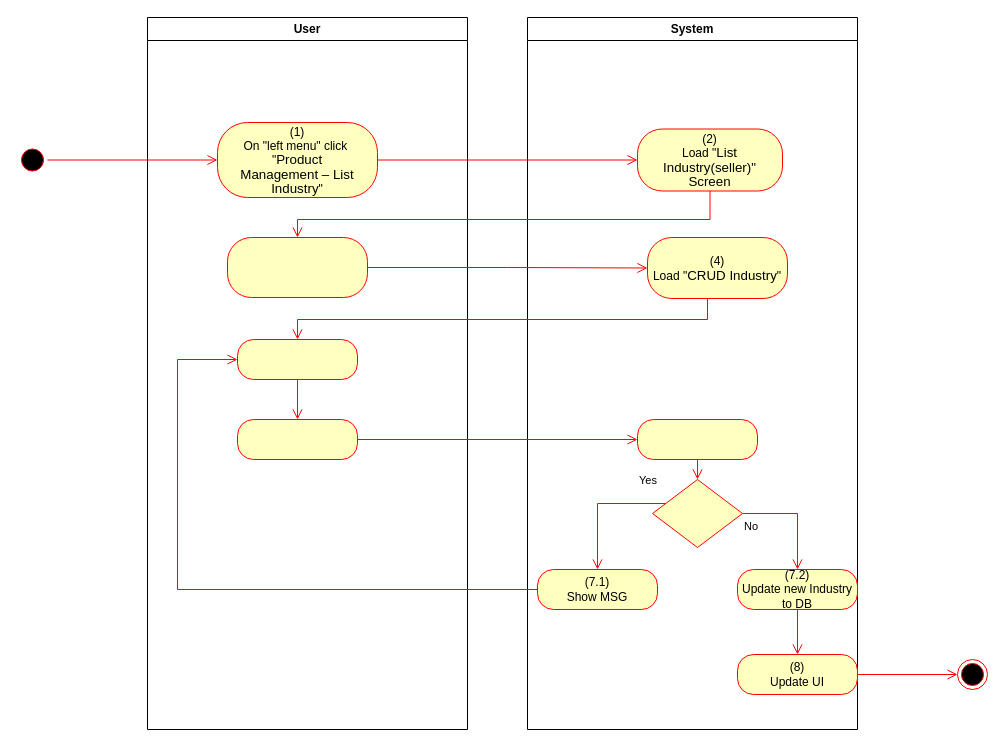
The diagram is 1005 pixels wide and 747 high, and some of its shapes have lost their labels. The shapes that lost their labels are listed below. From the top down, each one's centre as x and y in pixels, then its label:
[297,267]: (3) Click button "Chỉnh sửa" trên 1 item ngành hàng bất kỳ
[297,359]: (5) Giving input
[297,439]: (6) Click "Lưu"
[697,439]: (7) Validate
